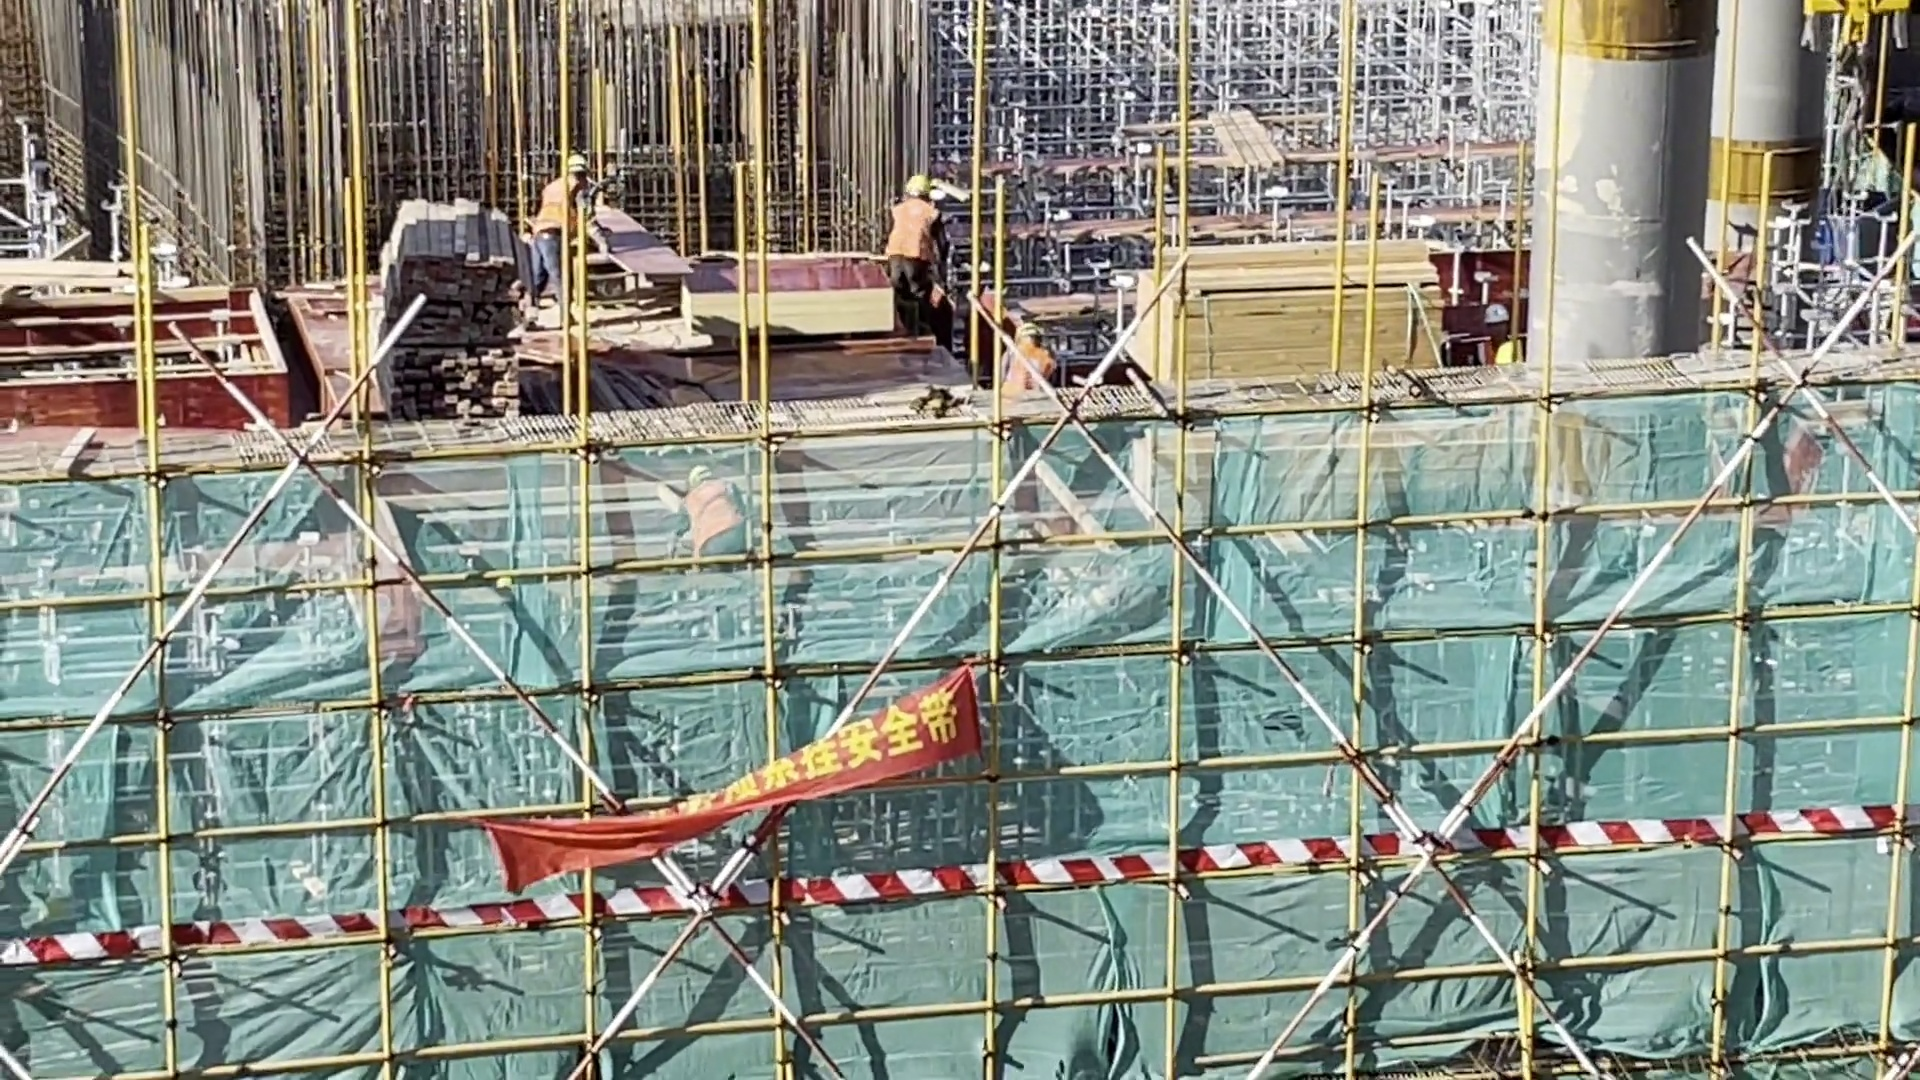board: (684, 263, 899, 348)
helmet: (1478, 301, 1516, 332), (1495, 344, 1522, 370), (1011, 319, 1045, 337), (561, 153, 591, 173), (904, 175, 931, 196), (681, 465, 718, 478)
person: (674, 458, 770, 600), (530, 154, 607, 331), (884, 175, 947, 339), (1477, 291, 1530, 400), (999, 312, 1058, 398)
slogan: (521, 694, 963, 864)
vest: (681, 484, 737, 539), (1002, 344, 1052, 397), (536, 174, 576, 237), (891, 203, 936, 257)
wood: (1135, 254, 1427, 382), (1132, 417, 1528, 493), (373, 221, 512, 328), (392, 335, 524, 429)
